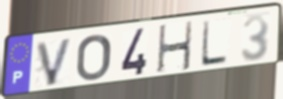3: (240, 13, 272, 63)
4: (119, 26, 149, 78)
H: (155, 19, 194, 75)
L: (199, 19, 230, 68)
O: (75, 33, 113, 83)
V: (35, 35, 75, 88)
